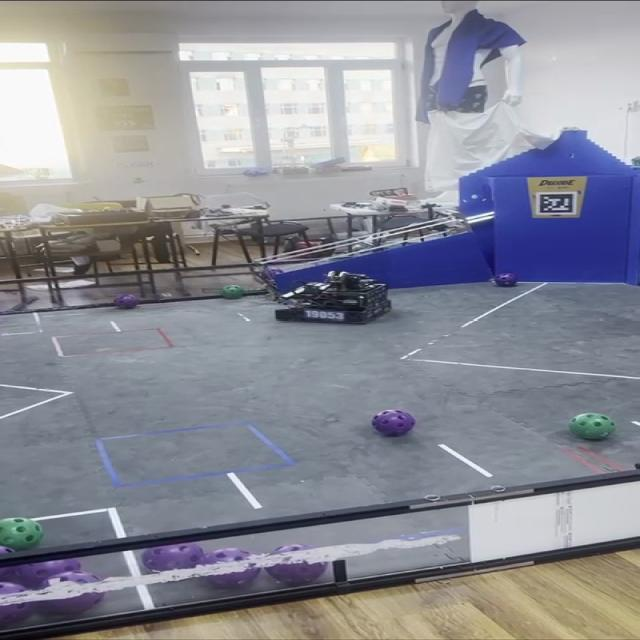artifact_green: (0, 518, 43, 551), (570, 413, 615, 439), (222, 285, 245, 299)
artifact_purple: (266, 545, 326, 585), (15, 559, 81, 588), (142, 543, 203, 571), (40, 592, 103, 615), (206, 566, 259, 588), (372, 410, 415, 436), (0, 602, 33, 625), (114, 294, 139, 309), (494, 273, 518, 287), (0, 566, 15, 580), (266, 267, 283, 278)
